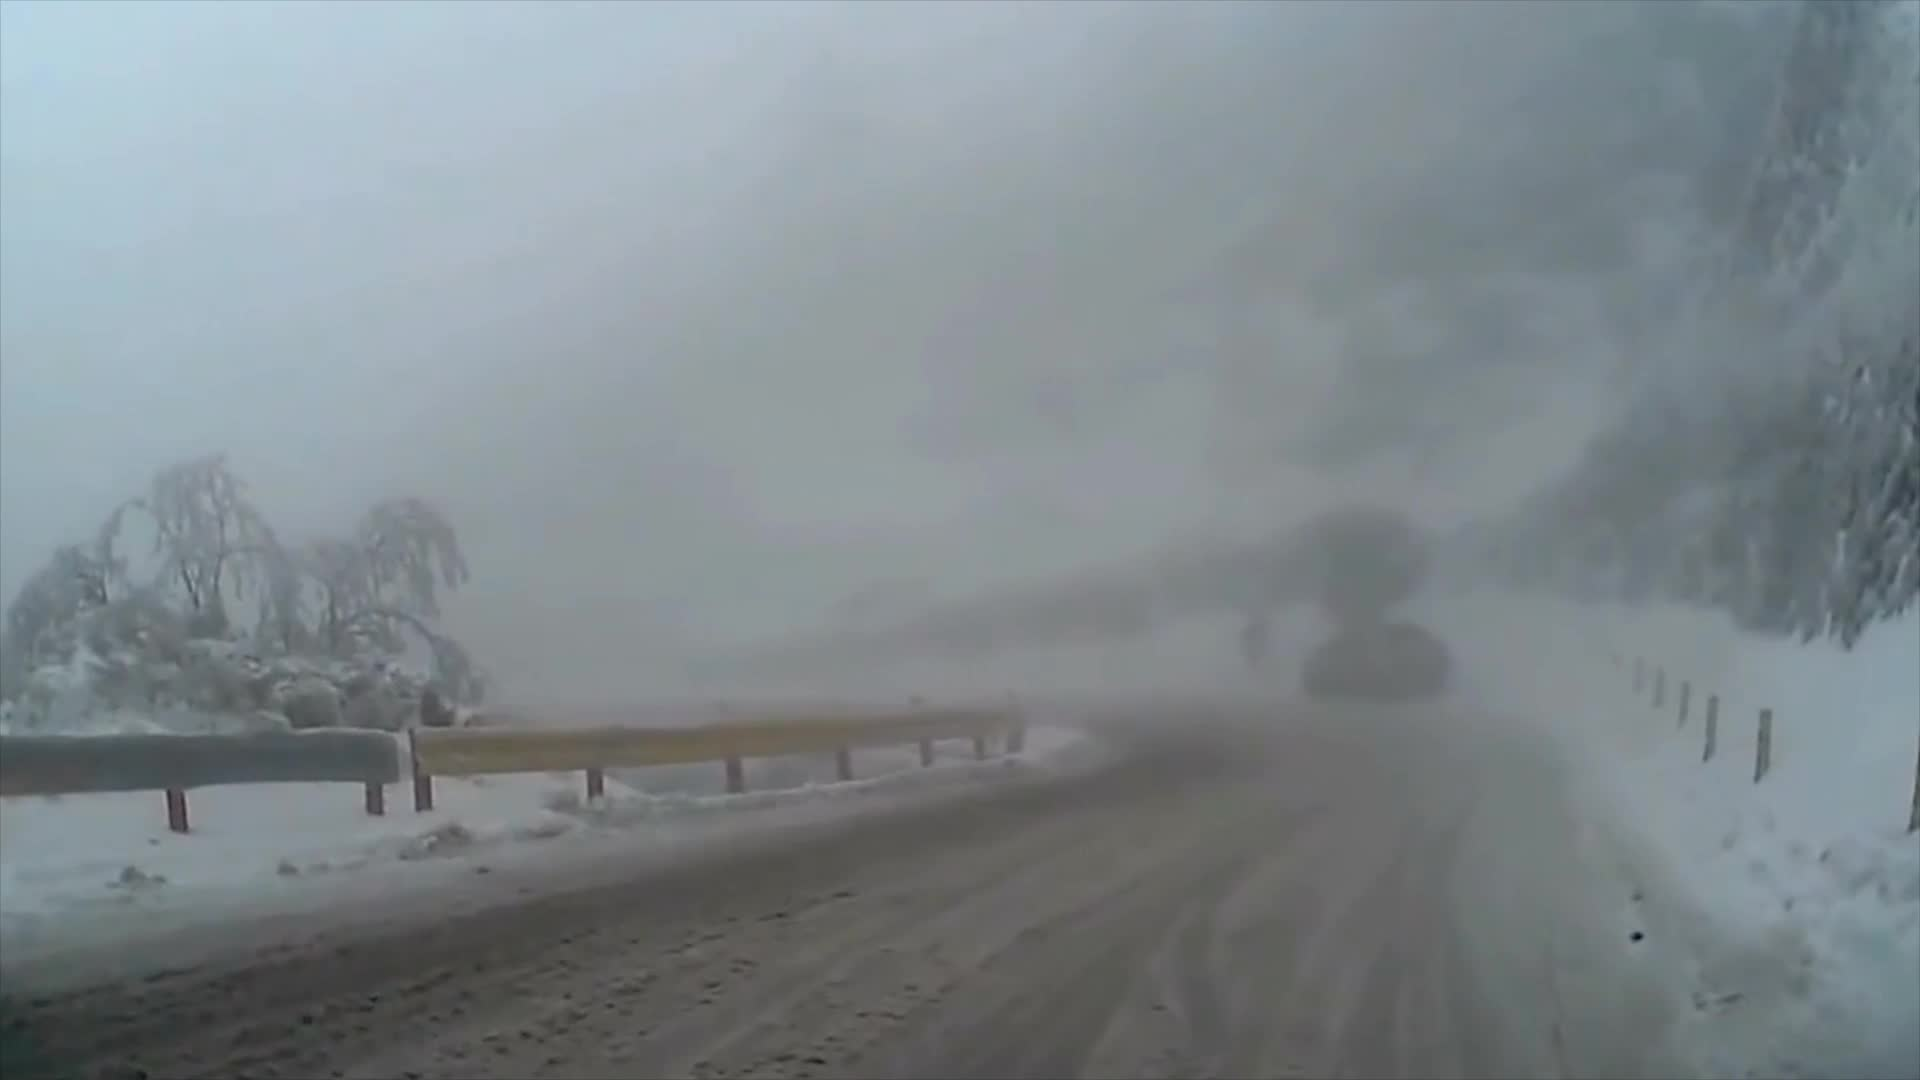vehicle: (1302, 620, 1451, 700)
